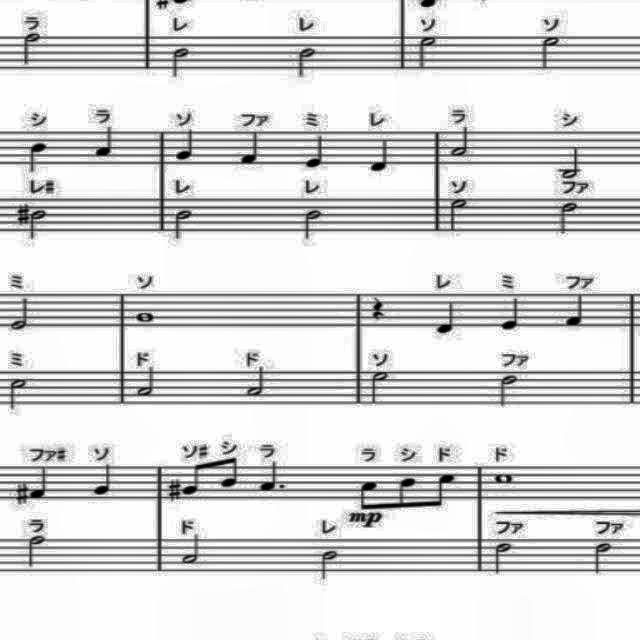Diez: (164, 476, 183, 504), (15, 202, 32, 230), (14, 481, 31, 507)
Eighth-note: (427, 466, 457, 510), (179, 458, 209, 498), (214, 454, 242, 494), (392, 474, 420, 511), (357, 478, 383, 512)
Full-note: (133, 305, 159, 331), (488, 470, 512, 490)
Half-note: (410, 32, 446, 72), (492, 367, 526, 408), (164, 204, 200, 242), (554, 142, 586, 184), (446, 192, 476, 234), (537, 32, 563, 80), (310, 543, 342, 581), (556, 196, 584, 237), (242, 360, 270, 400), (179, 532, 207, 572), (7, 291, 33, 333), (22, 29, 50, 67), (22, 530, 50, 568), (131, 364, 157, 404), (298, 208, 329, 240), (366, 364, 389, 406), (490, 539, 514, 579), (586, 541, 614, 575), (295, 42, 319, 78), (448, 124, 472, 160), (7, 374, 29, 412), (27, 206, 49, 242), (169, 47, 191, 81)
Quarter-dot: (257, 455, 289, 493)
Quarter-note: (561, 288, 591, 332), (302, 130, 330, 172), (368, 132, 392, 180), (436, 298, 462, 342), (26, 462, 54, 502), (493, 295, 521, 333), (238, 131, 266, 167), (90, 460, 114, 500), (174, 126, 198, 164), (26, 142, 50, 178), (95, 123, 117, 161)
Quarter-rest: (366, 292, 394, 324)
